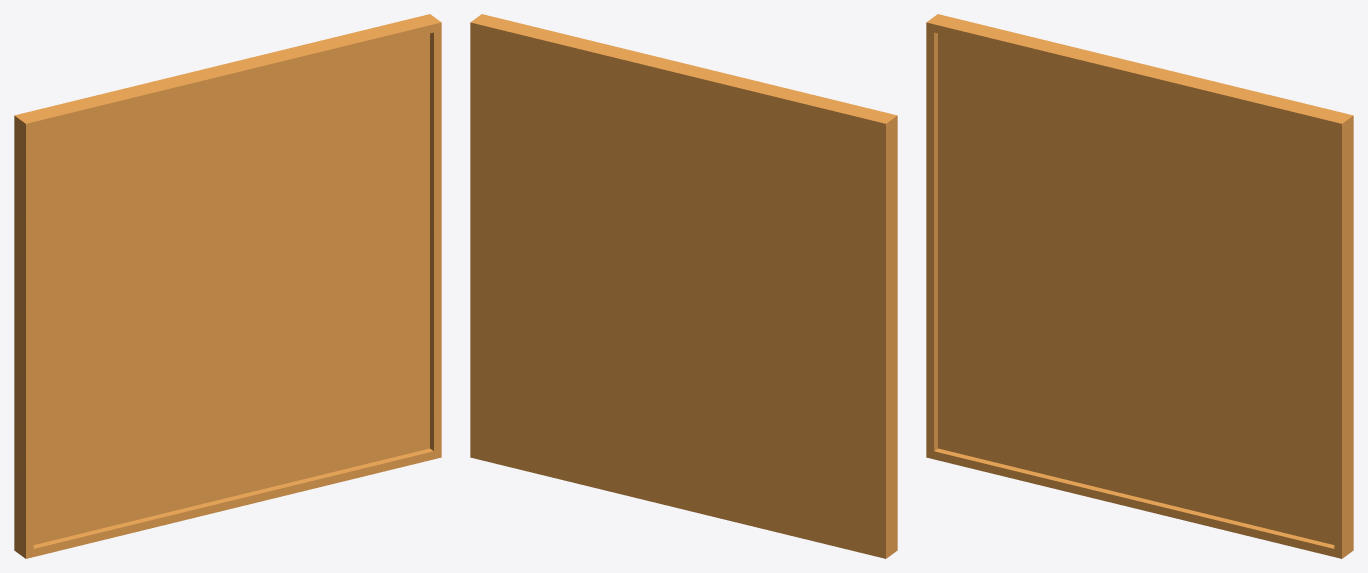
Rendered from frame_orange.glb.
3 renders of one model, left to right at view 1: azimuth 30°, elevation 25°; view 2: azimuth 150°, elevation 25°; view 3: azimuth 330°, elevation 25°, orthographic.
Visible parts, largest first — view 1: frame_orange; view 2: frame_orange; view 3: frame_orange.
Part boxes in pixels (<box>): frame_orange: <box>14,14,441,558</box>; frame_orange: <box>470,14,897,558</box>; frame_orange: <box>926,14,1353,558</box>.
Bounding box in the file's own units: 2.08 × 2.08 × 0.1.
Materials: 1 (1 with a texture image).
